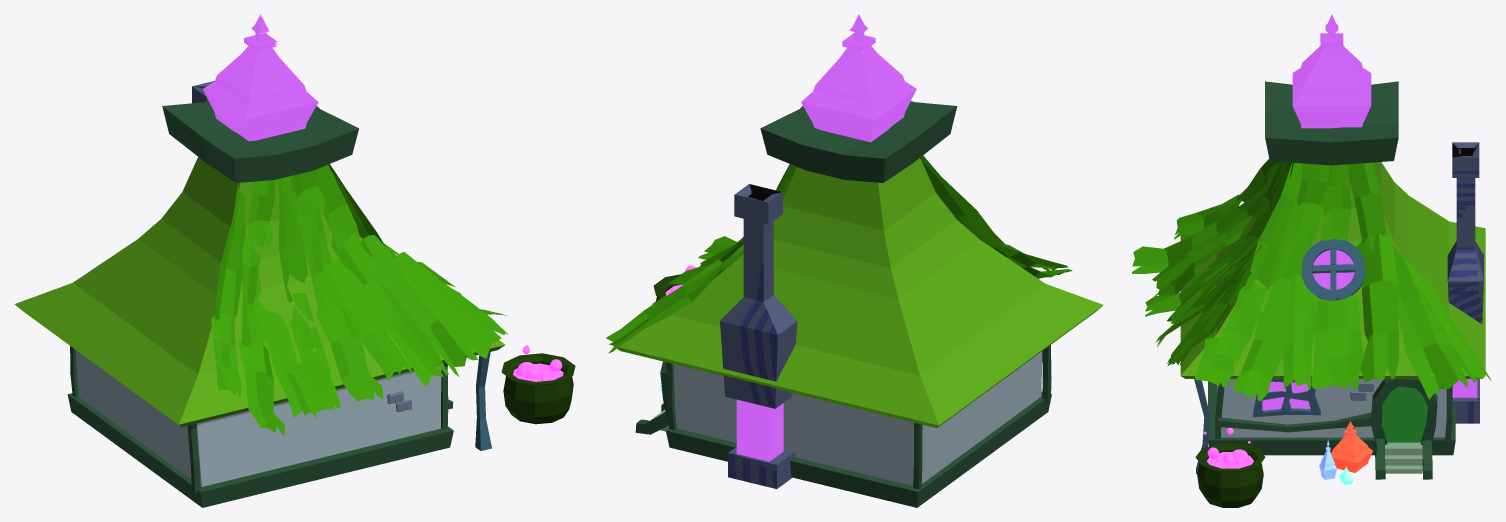
The model's file is alkemist2.glb.
The picture shows the model from 3 angles, left to right: view 1: azimuth 30°, elevation 25°; view 2: azimuth 150°, elevation 25°; view 3: azimuth 270°, elevation 25°; orthographic projection. The views are drawn at different scales.
Parts seen in each view (by area): view 1: Cube.052; view 2: Cube.052; view 3: Cube.052.
Part boxes in pixels (<box>): Cube.052: <box>14,14,575,507</box>; Cube.052: <box>606,14,1103,507</box>; Cube.052: <box>1132,14,1491,507</box>.
Bounding box in the file's own units: 8.2 × 7.88 × 6.6.
15 materials, 3 textured.
